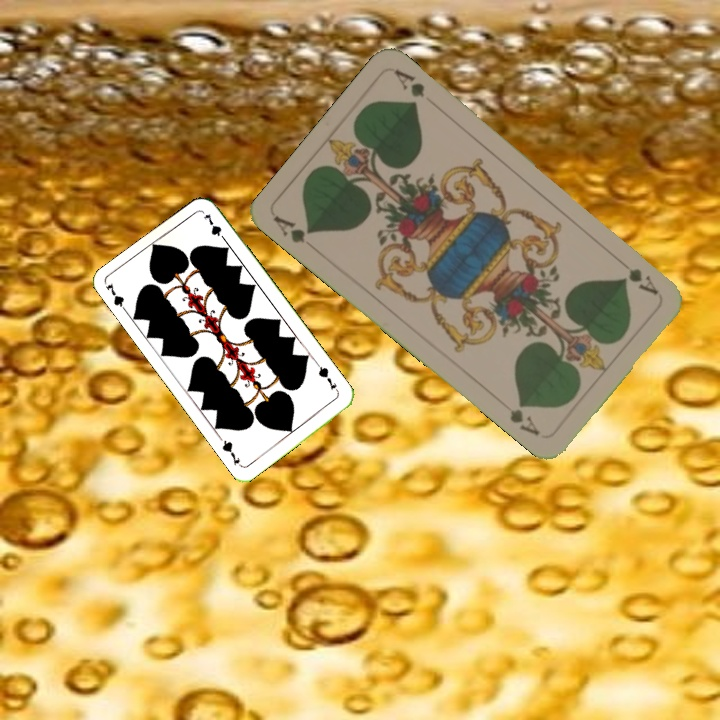G7: (102, 279, 131, 317), (313, 360, 339, 393)
GA: (613, 254, 662, 298), (270, 212, 315, 246)
